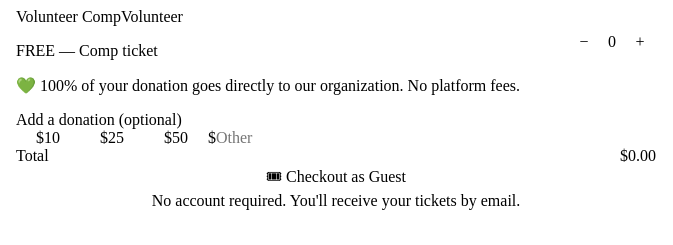
Scenario: TicketSelector › order summary & checkout › shows volunteer tickets as FREE in the summary
Click the button named "Increase quantity". click: (640,42)
box: [624, 26, 656, 58]
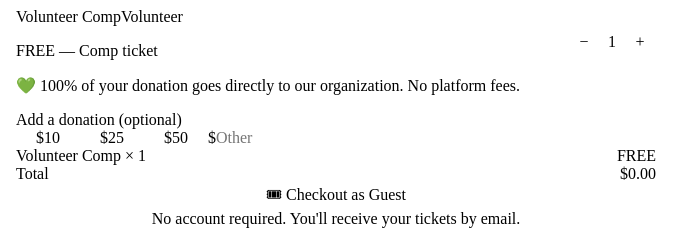
Result: the text "FREE" is shown at [617, 147, 656, 165]
